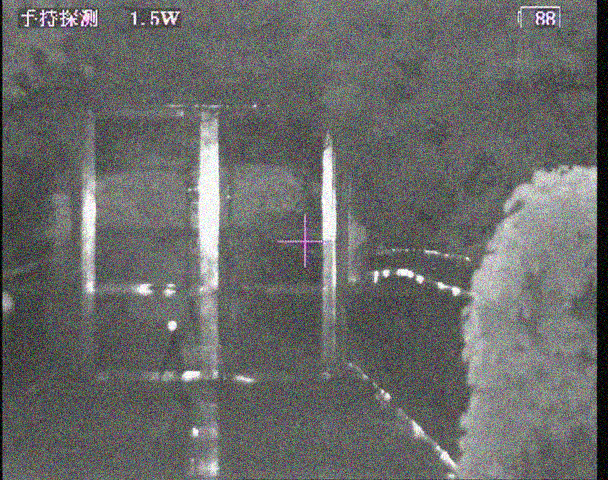my: (167, 320, 178, 331)
